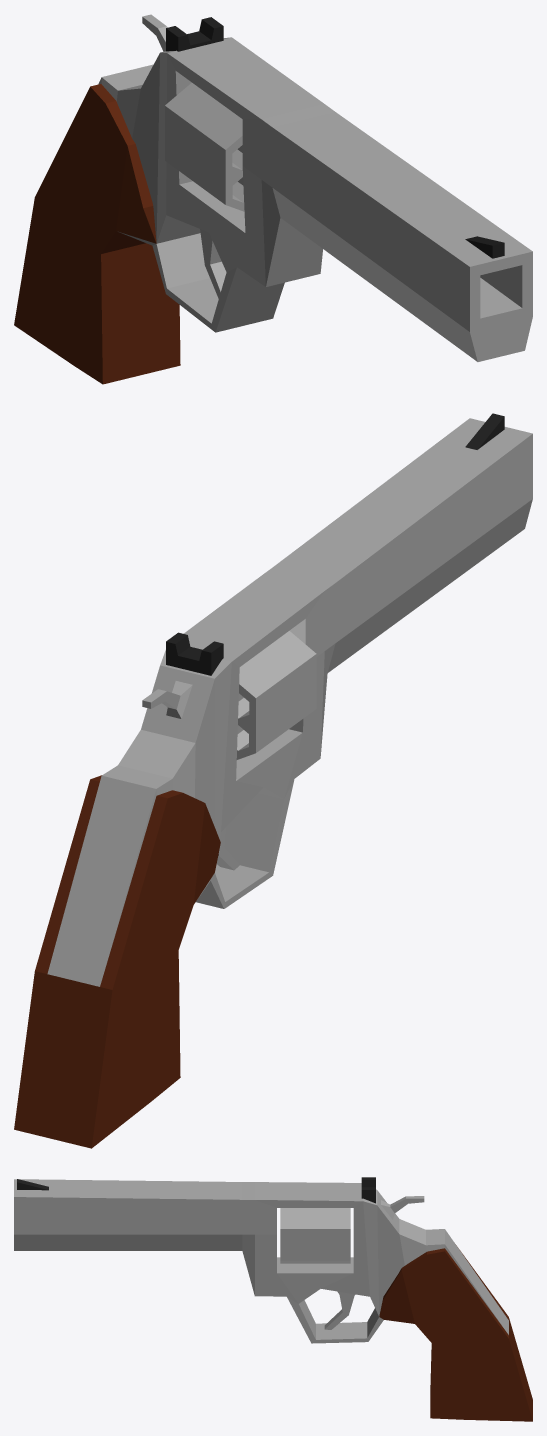
The model's file is Colt_Python.fbx.
The picture shows the model from 3 angles, top to bottom: view 1: azimuth 30°, elevation 25°; view 2: azimuth 150°, elevation 25°; view 3: azimuth 270°, elevation 25°; orthographic projection. The views are drawn at different scales.
Visible parts, largest first — view 1: Colt_Python; view 2: Colt_Python; view 3: Colt_Python.
Boxes of the visible parts, <box> form: Colt_Python: <box>14,14,532,384</box>; Colt_Python: <box>14,413,532,1148</box>; Colt_Python: <box>14,1177,532,1421</box>.
Bounding box in the file's own units: 3.54 × 14.77 × 30.17.
